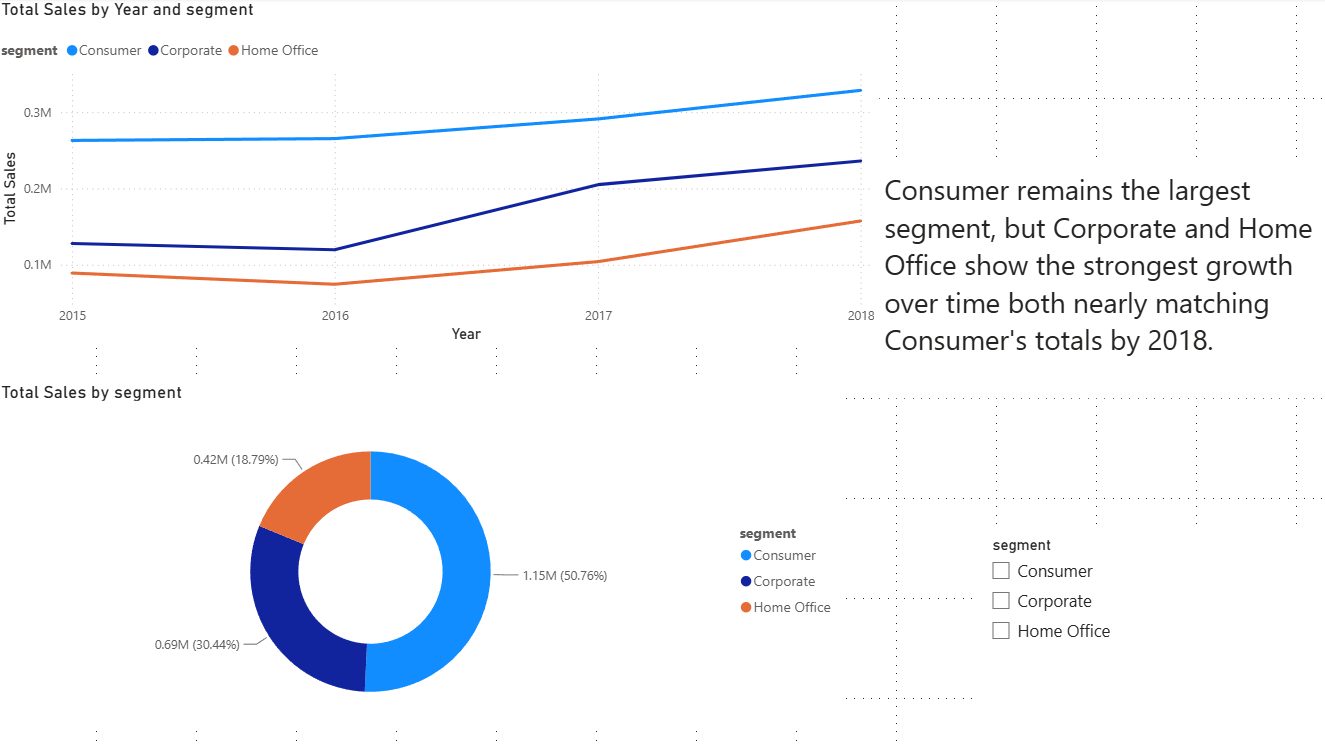

The dashboard page shown, as its layout file describes it:
{"tool":"powerbi","page":{"name":"Customer Segments","canvas":[1280,720],"ordinal":2},"visuals":[{"type":"lineChart","fields":{"Category":["clean_sales.order_date.Variation.Date Hierarchy.Year"],"Series":["clean_sales.segment"],"Y":["clean_sales.Total Sales"]},"box":[0,0,848,336],"z":0},{"type":"donutChart","fields":{"Category":["clean_sales.segment"],"Y":["clean_sales.Total Sales"]},"box":[0,368,816,336],"z":1},{"type":"slicer","fields":{"Values":["clean_sales.segment"]},"box":[944,512,336,208],"z":2},{"type":"textbox","box":[848,0,432,384],"z":3}]}

Visuals, with their boxes in screenshot pixels (x1, y1, x2, y2), scaled from the page's 1280x720 canvas onto the 1325x746 screenshot:
lineChart - clean_sales.order_date.Variation.Date Hierarchy.Year x clean_sales.segment: [0,0,878,348]
donutChart - clean_sales.segment x clean_sales.Total Sales: [0,381,845,729]
slicer - clean_sales.segment: [977,530,1324,745]
textbox: [878,0,1324,398]
